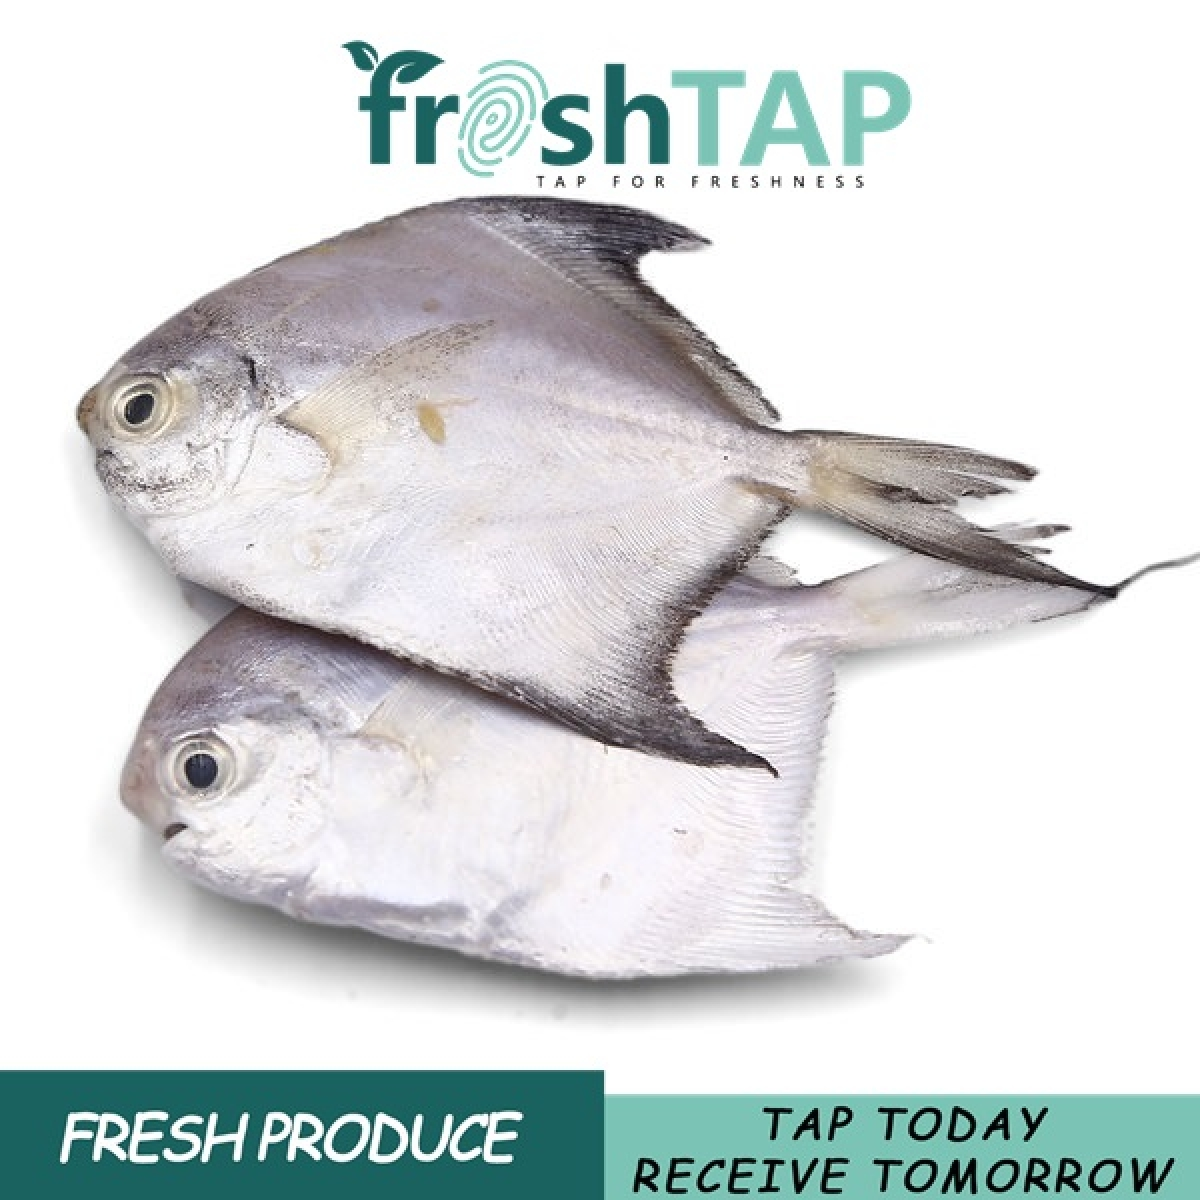Ikan Bawal: (71, 185, 1103, 744), (112, 595, 1132, 1015)
